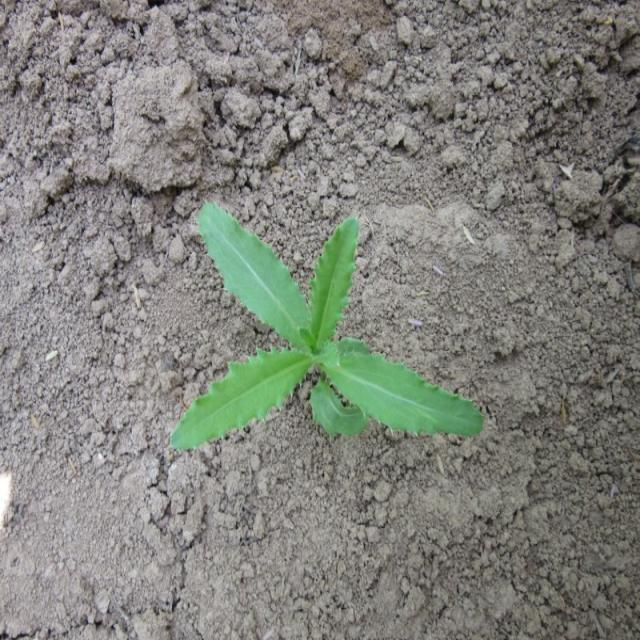field_thistle: (158, 189, 482, 480)
